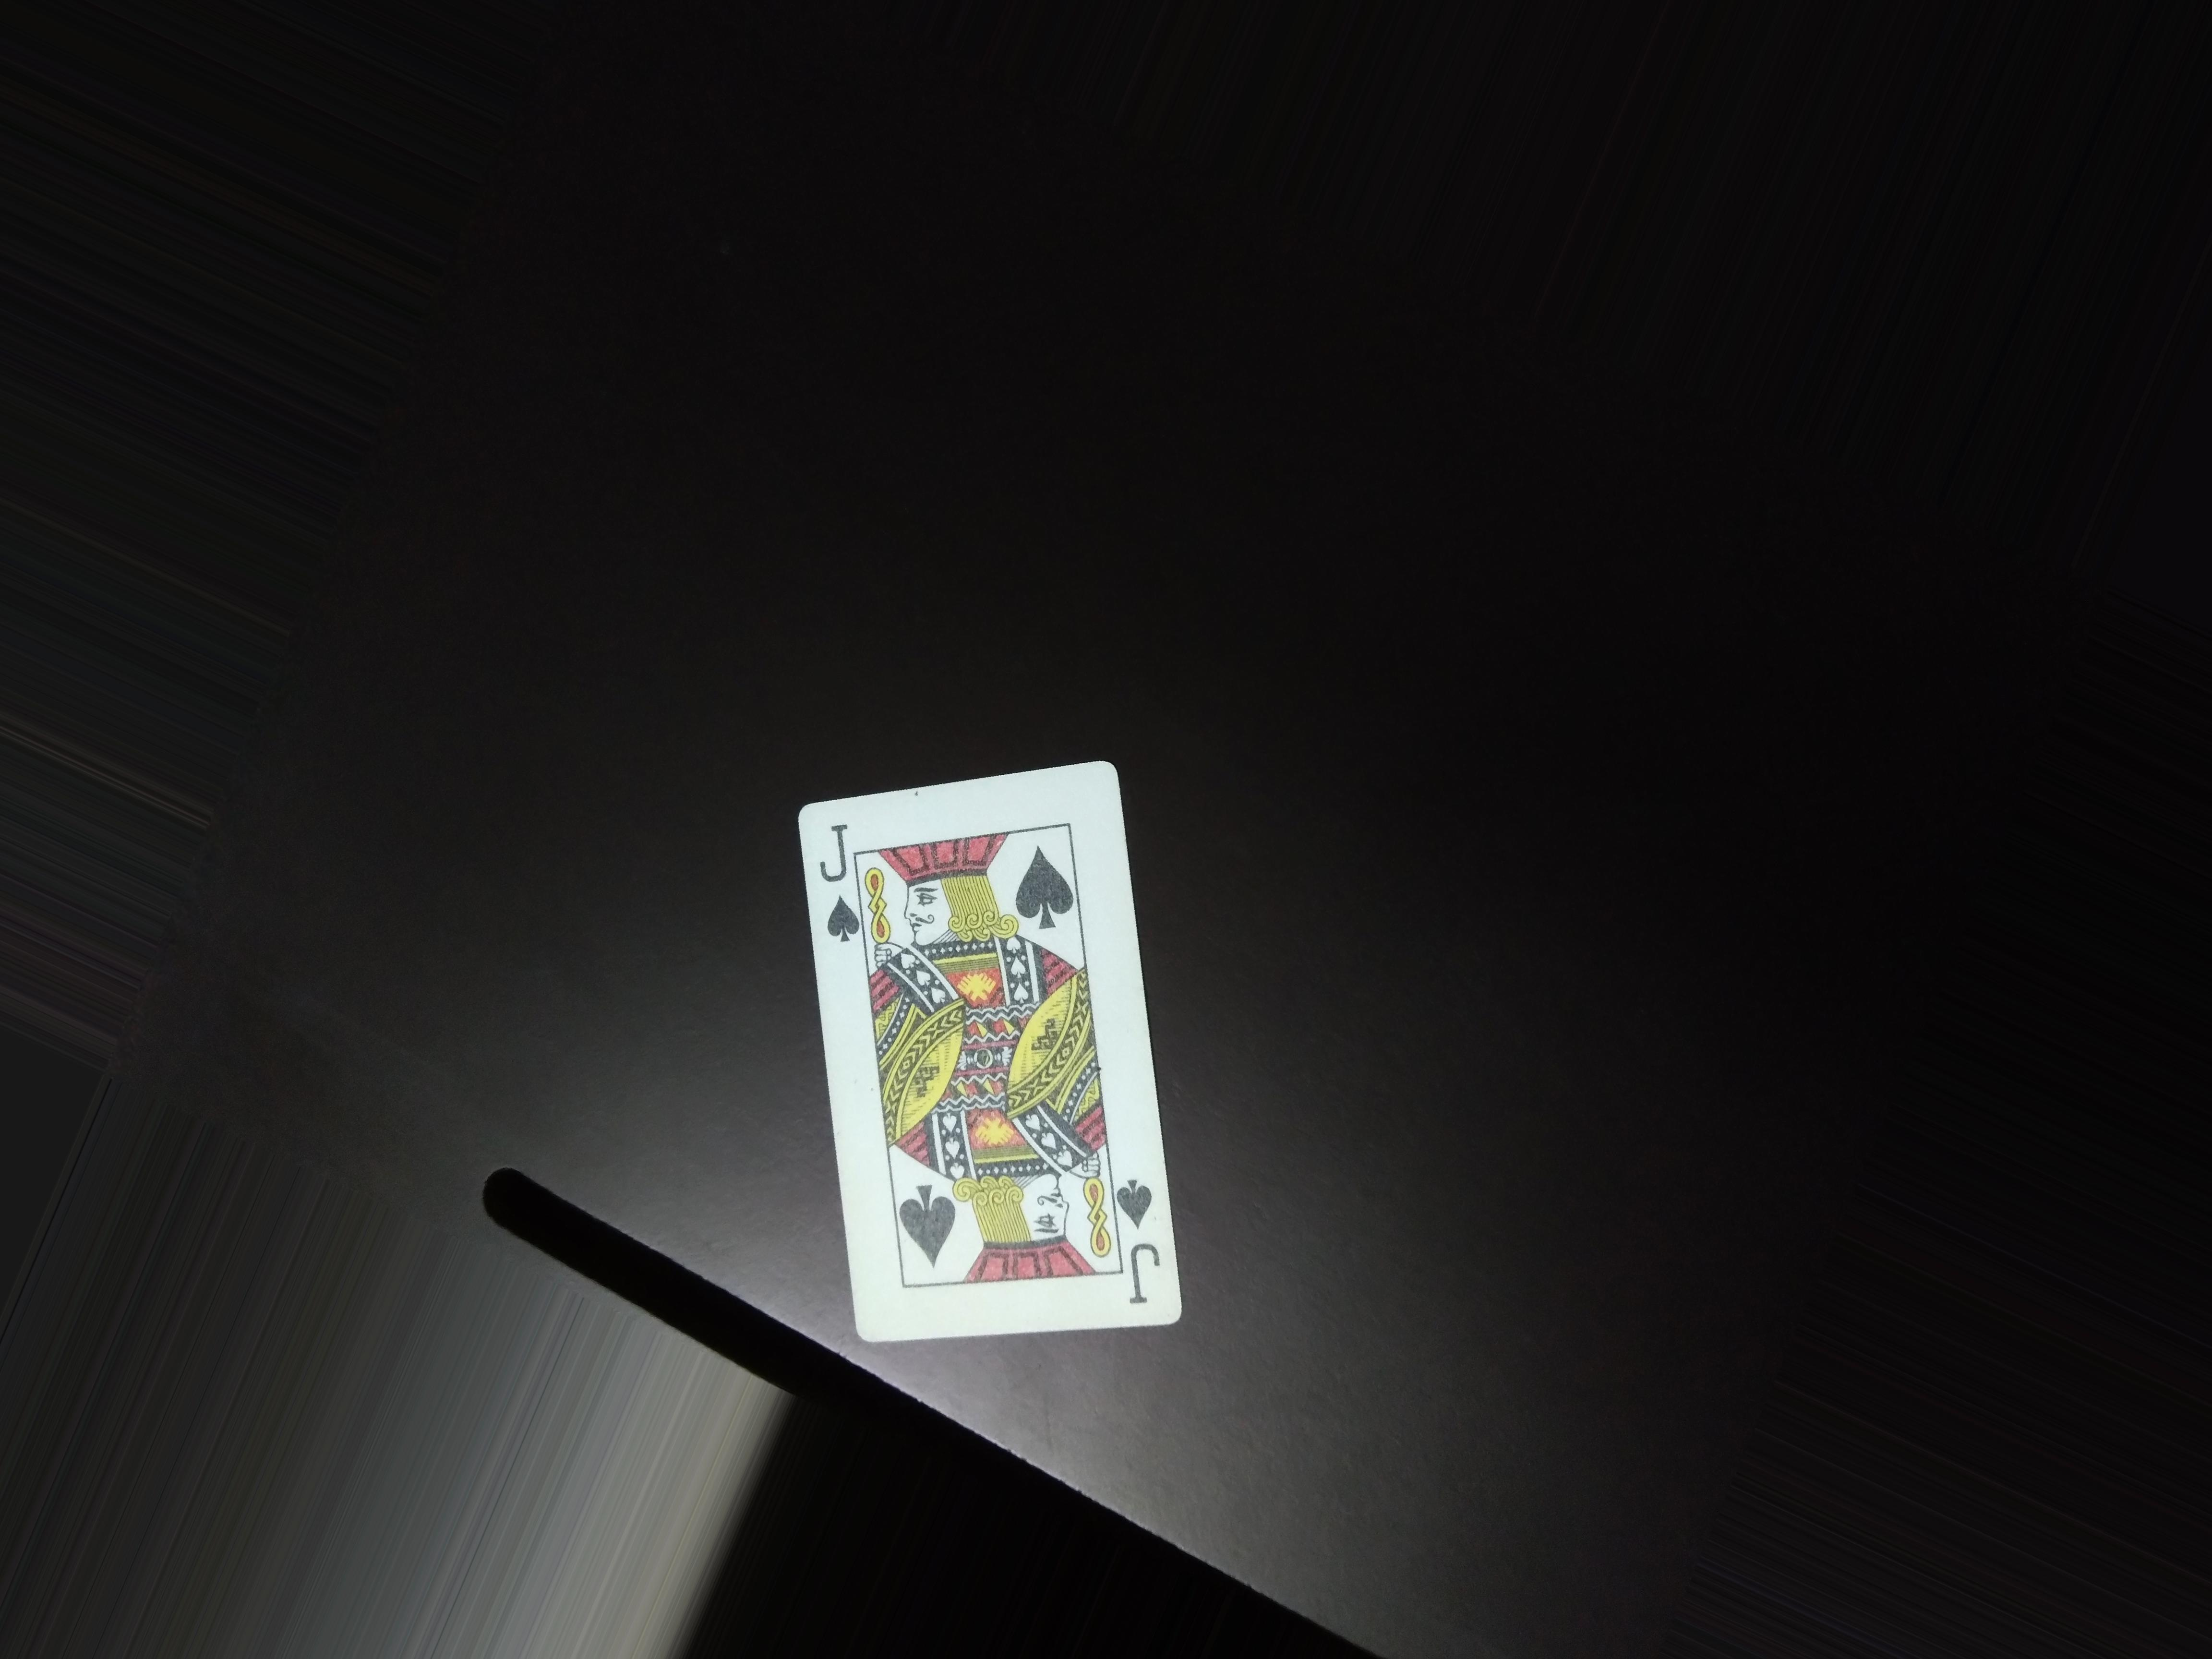JS: (812, 809, 866, 969)
